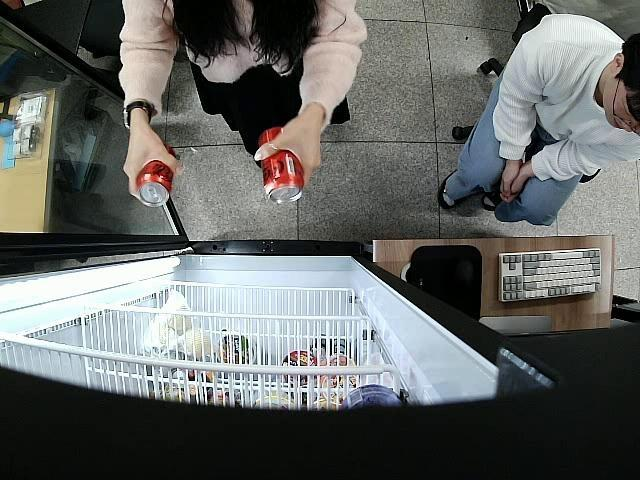11_cocaColaZero: (256, 126, 304, 206), (138, 143, 176, 208)
